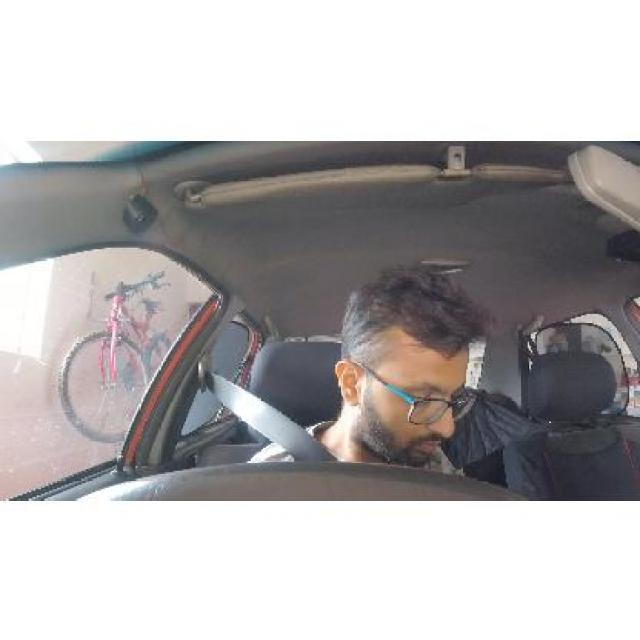drowsy: (326, 264, 498, 471)
